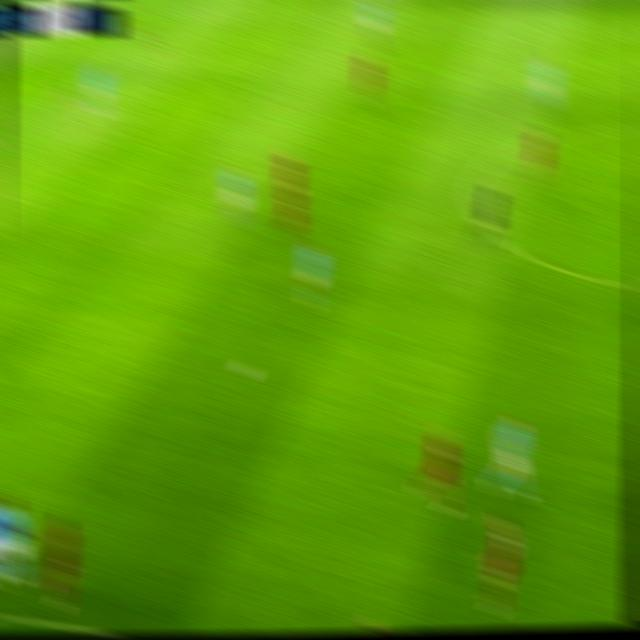bigarea_top_inner: (129, 19, 156, 46)
top_arc_area_intersection: (51, 81, 78, 107)
